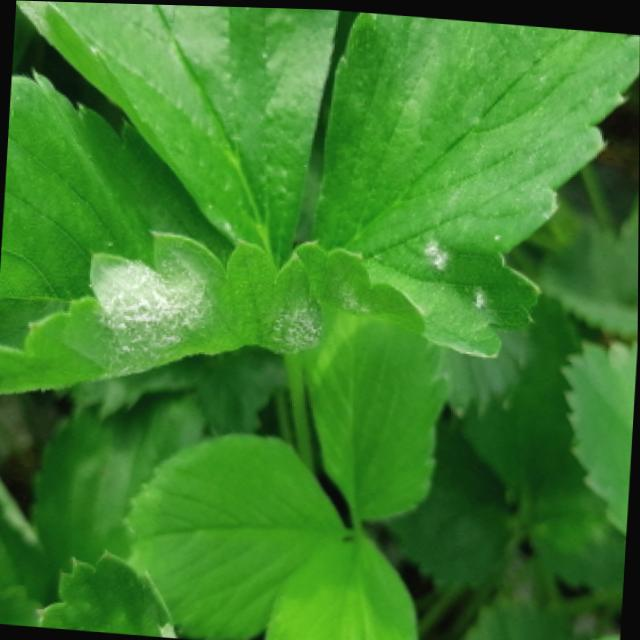Powdery Mildew Leaf: (292, 10, 640, 356), (0, 66, 328, 396), (16, 0, 339, 261), (39, 550, 181, 638)
